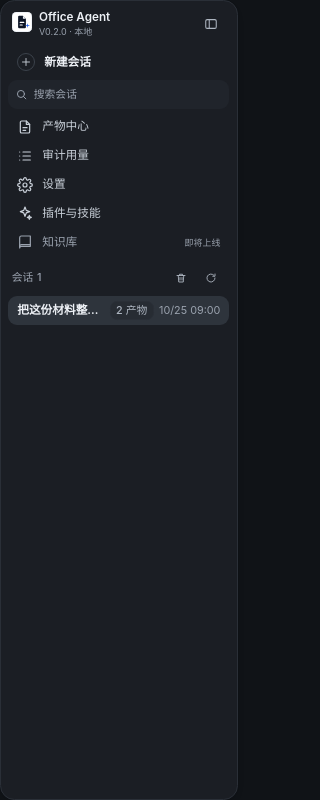
拖动排序 › 批量清理模式下整行是复选框，不再响应拖动
This screenshot has width=320, height=800.
Click the button named "批量清理会话" at (181, 278), box [166,264,195,292]
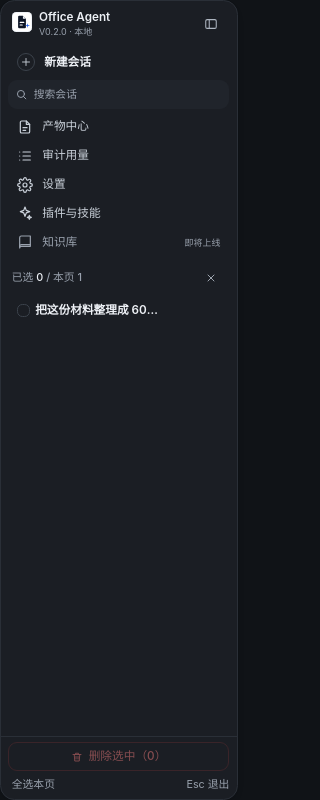
Now the list item "把这份材料整理成 600 字周报" has attribute draggable="false", box [8,296,229,325]
